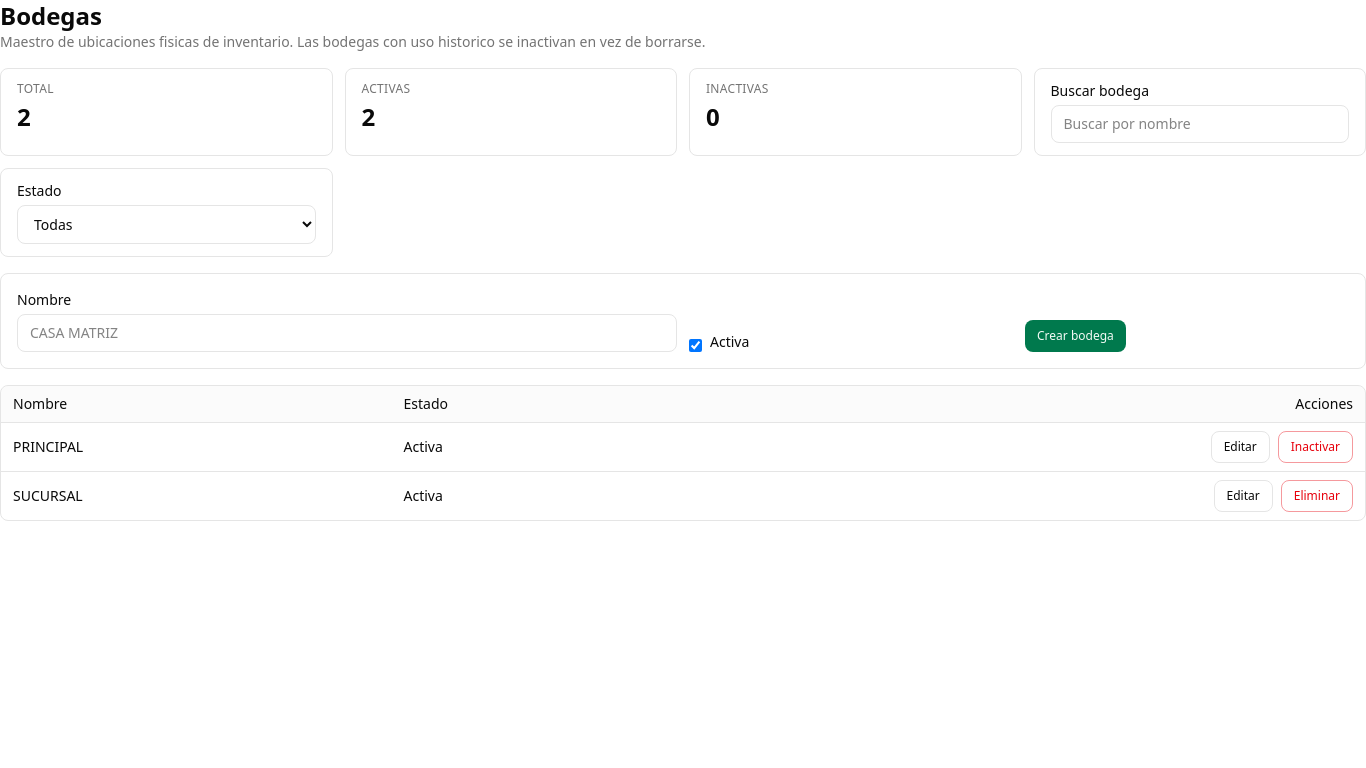
Test: inventario/InventarioBodegasPage › muestra inactivacion o eliminacion segun respuesta del backend
Expected: the text "PRINCIPAL" is shown, top-left (1, 422), bottom-right (392, 472)
Click the button "Inactivar" at {"x": 1315, "y": 447}, box top-left (1278, 431), bottom-right (1353, 463)
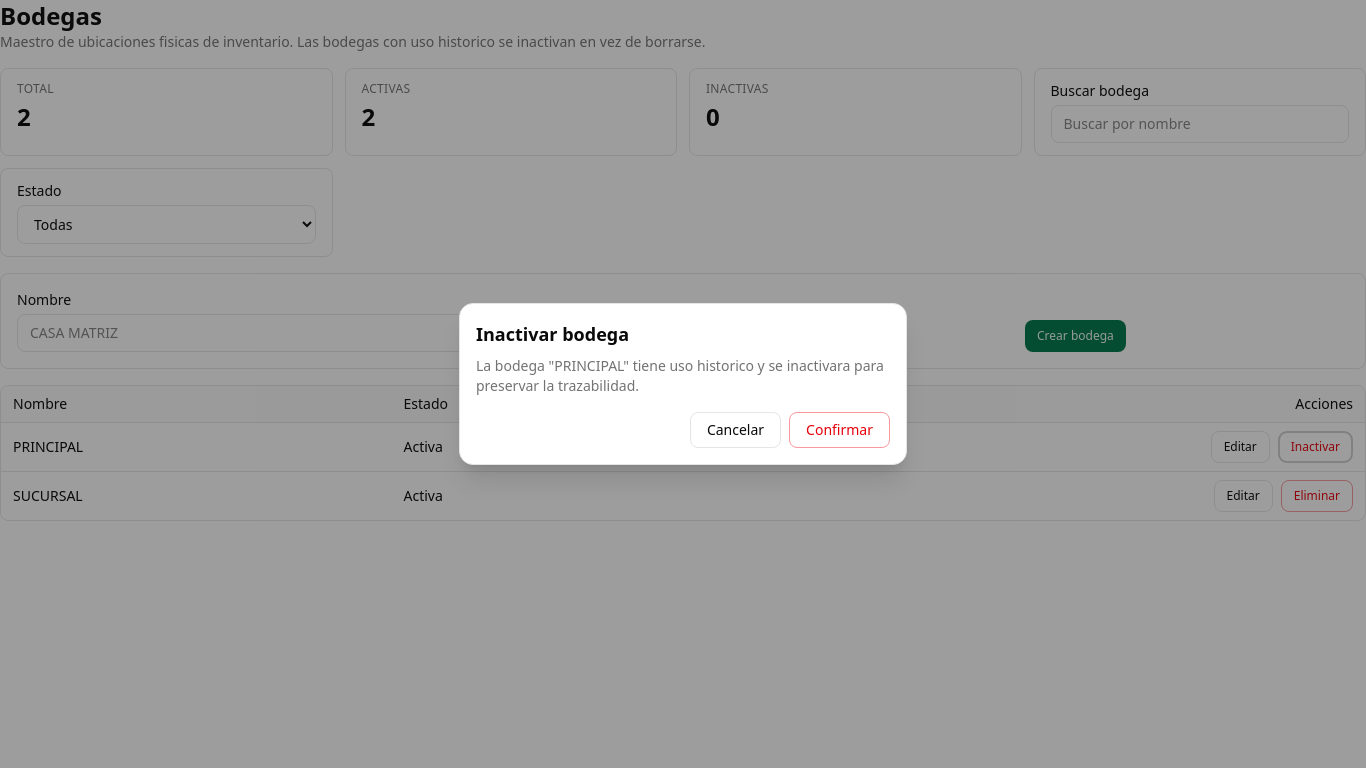
Now the text "se inactivara para preservar la trazabilidad" is shown, box top-left (476, 356), bottom-right (884, 395)
Click the button "Confirmar" at {"x": 840, "y": 430}, box top-left (789, 412), bottom-right (890, 448)
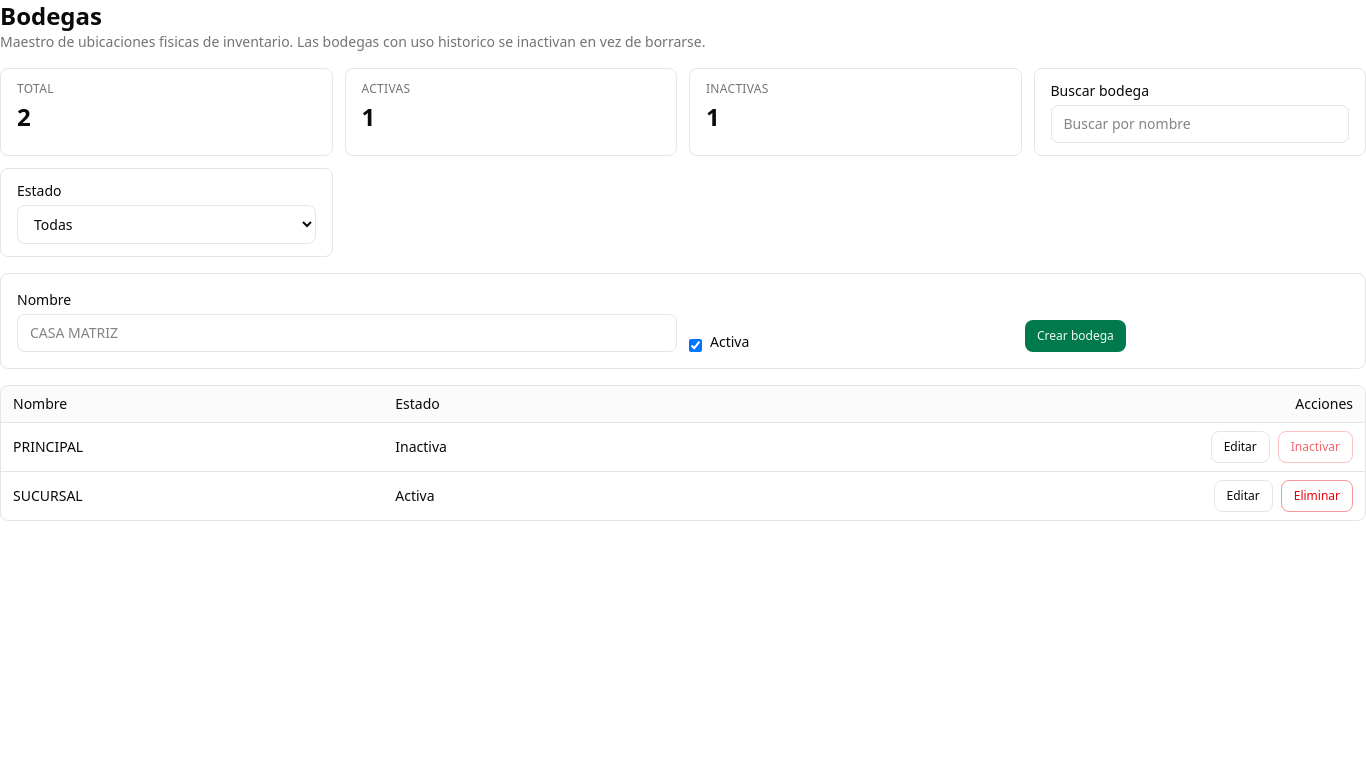
Now the text "Inactiva" is shown, box top-left (383, 422), bottom-right (690, 472)
Click the button "Eliminar" at {"x": 1317, "y": 496}, box top-left (1281, 480), bottom-right (1353, 512)
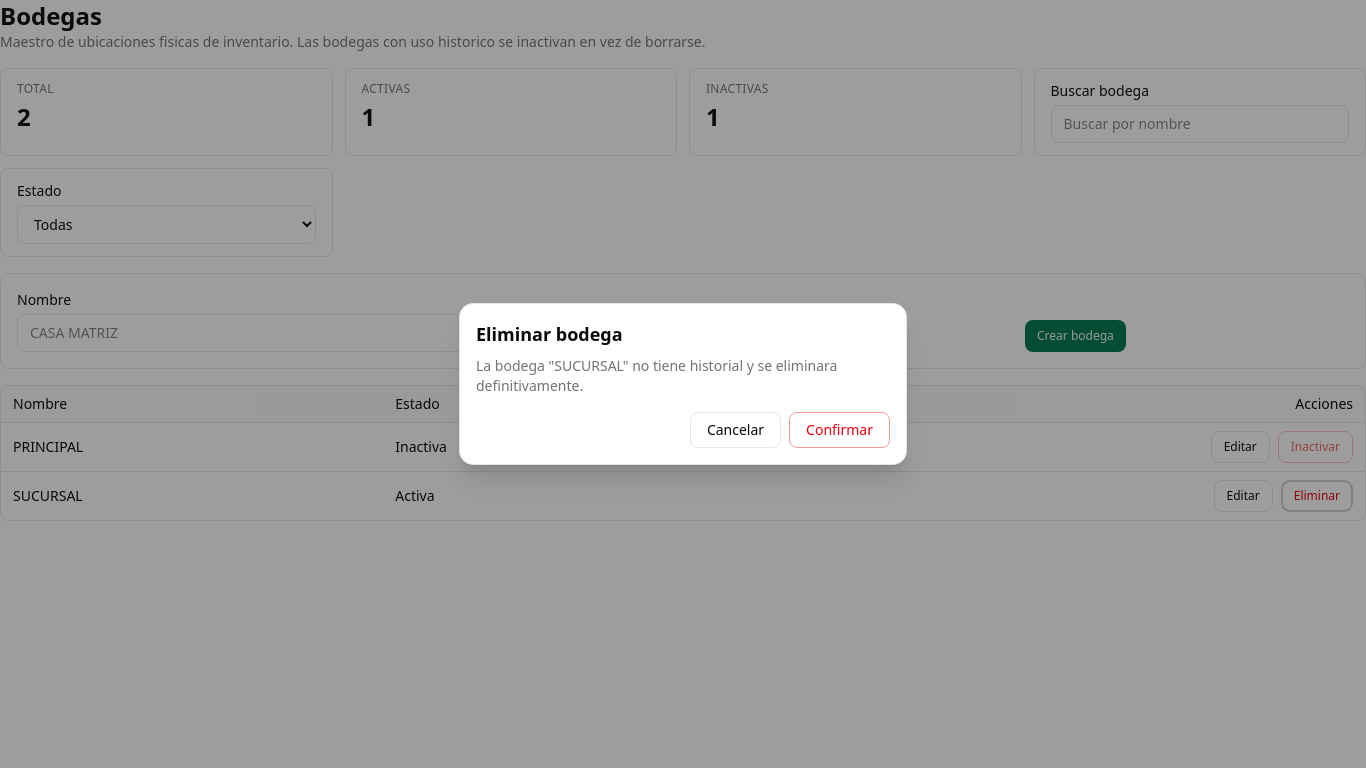
Now the text "se eliminara definitivamente" is shown, box top-left (476, 356), bottom-right (837, 395)
Click the button "Confirmar" at {"x": 840, "y": 430}, box top-left (789, 412), bottom-right (890, 448)
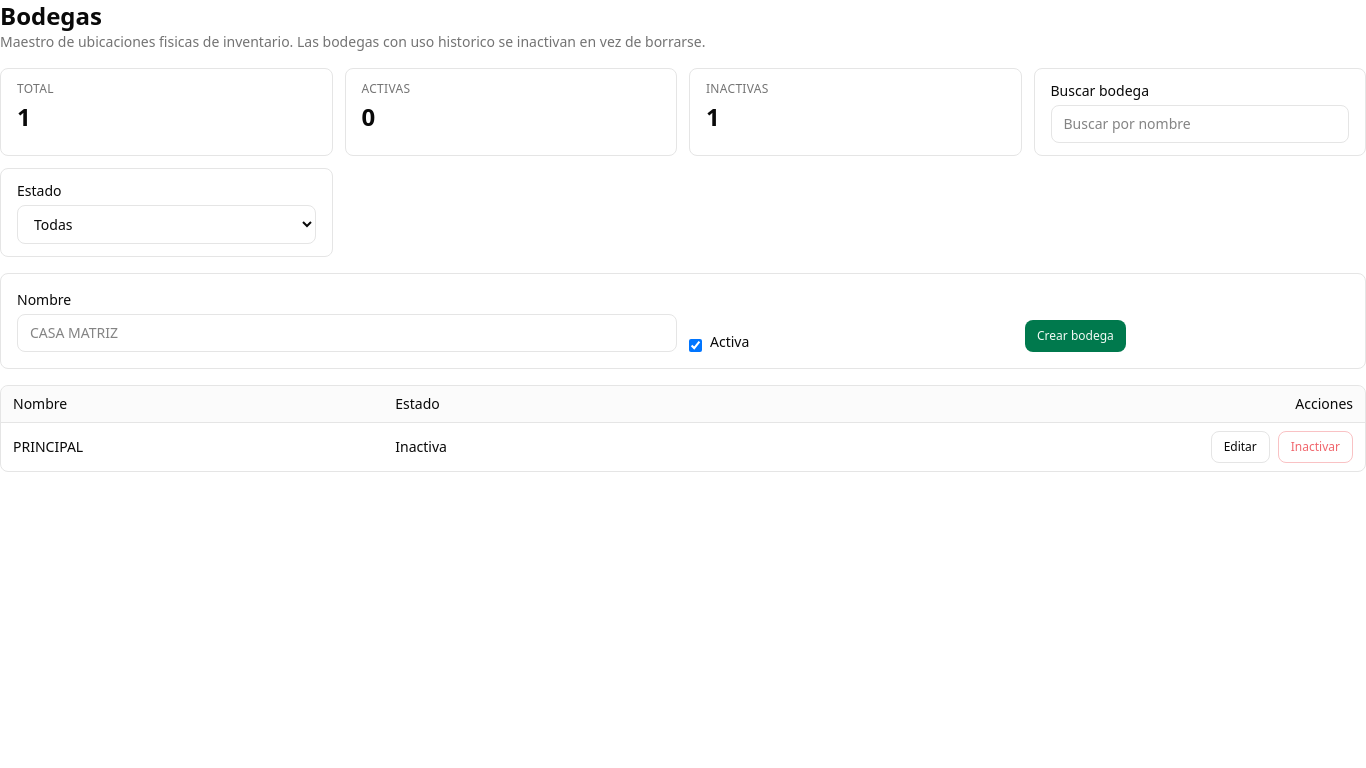
Now the text "SUCURSAL" is gone
